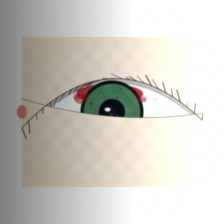hemorrhage_spot: (64, 57, 156, 131)
